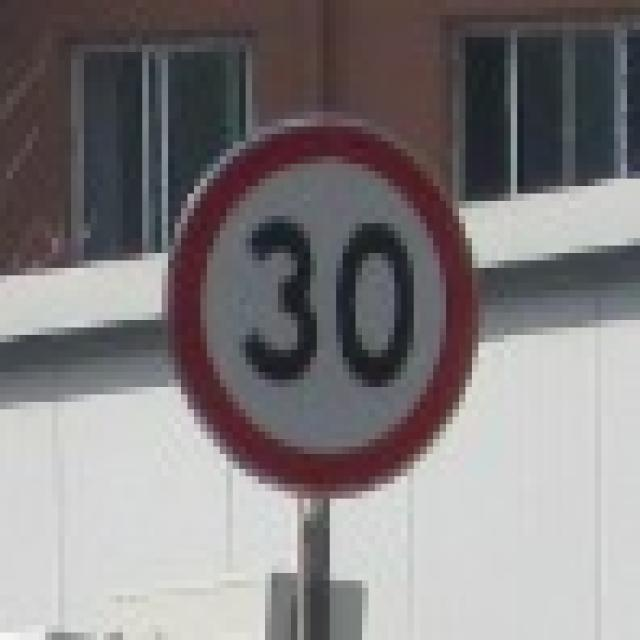Speed Limit -30-: (237, 217, 424, 390)
